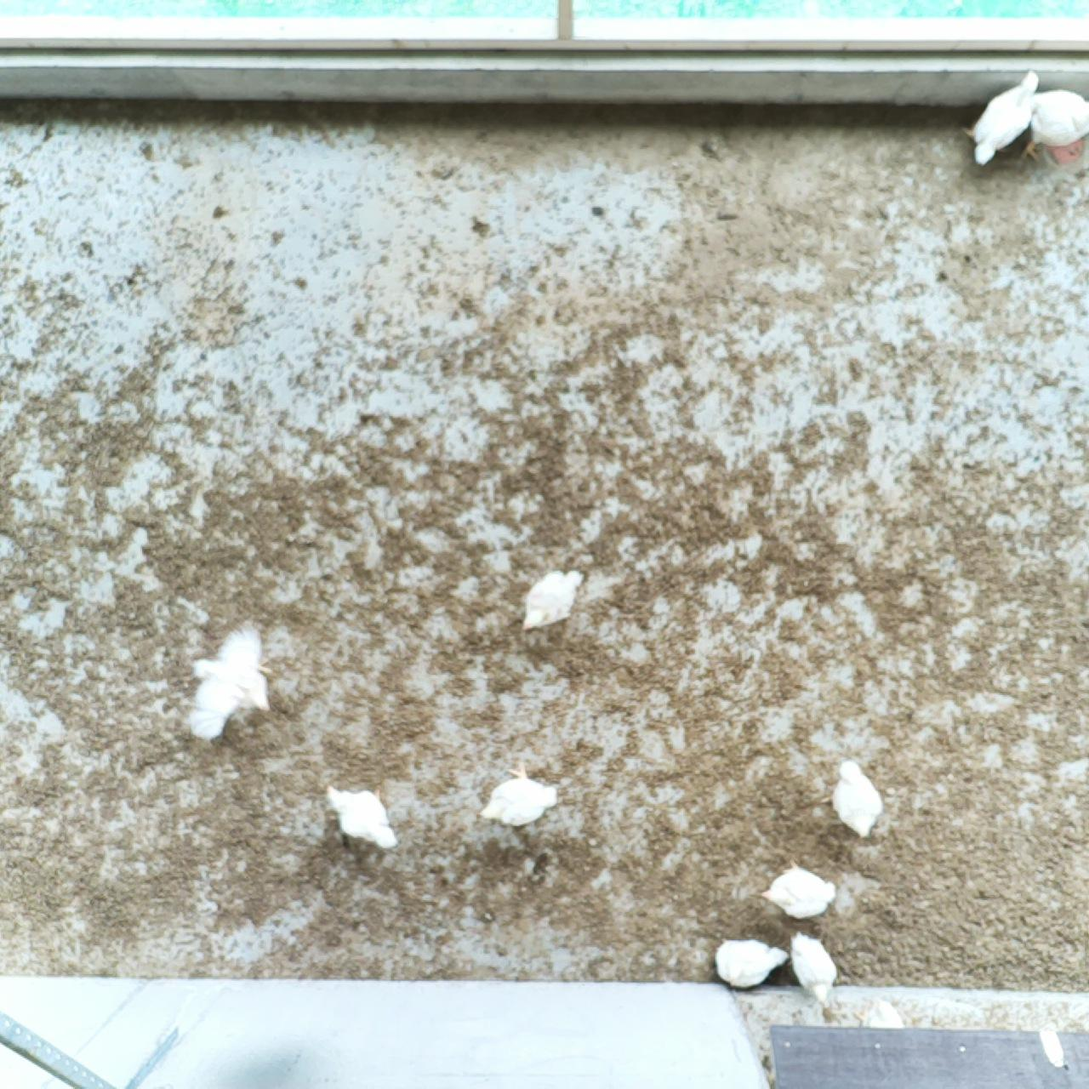chicken: (182, 614, 275, 745), (960, 66, 1044, 168), (472, 755, 561, 835), (320, 775, 402, 856), (1017, 82, 1089, 171), (816, 754, 886, 842), (515, 563, 590, 640), (757, 855, 842, 921), (709, 929, 790, 990), (786, 927, 841, 1009), (847, 991, 911, 1030)
